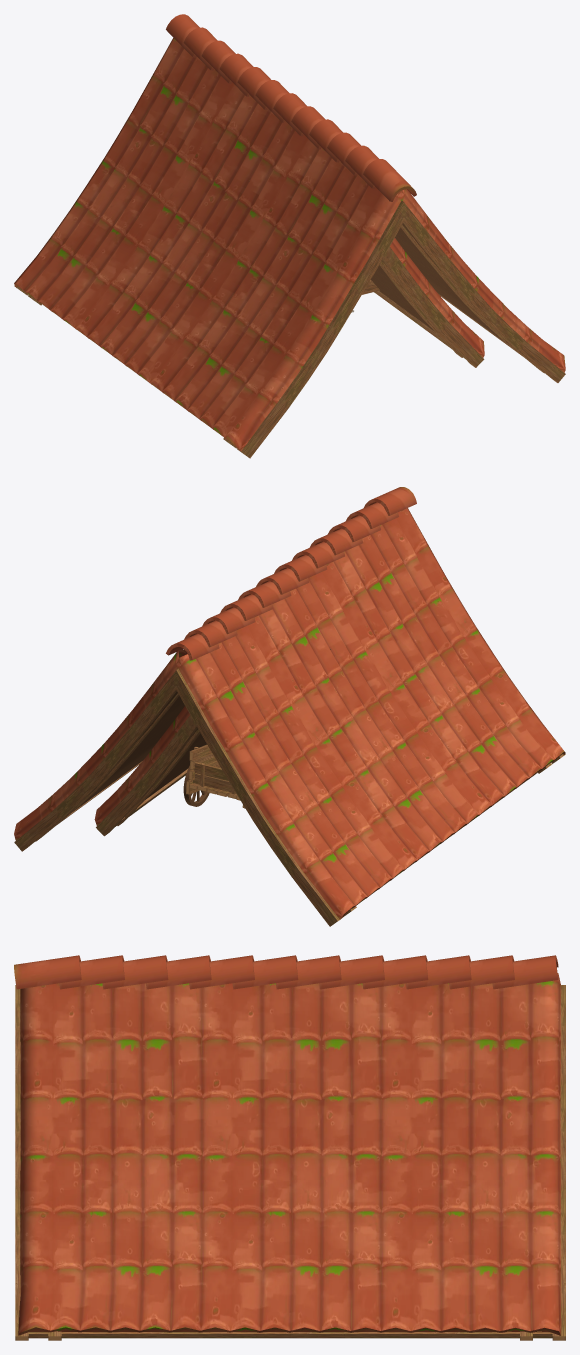
File: village.glb
The picture shows the model from 3 angles, top to bottom: view 1: azimuth 30°, elevation 25°; view 2: azimuth 150°, elevation 25°; view 3: azimuth 270°, elevation 25°; orthographic projection. The views are drawn at different scales.
Visible parts, largest first — view 1: Roof_RoundTiles_6x8, Roof_RoundTiles_4x6; view 2: Roof_RoundTiles_6x8, Roof_RoundTiles_4x6, Prop_Wagon; view 3: Roof_RoundTiles_6x8.
Boxes of the visible parts, left/top/right/bottom form: Roof_RoundTiles_6x8: left=14, top=14, right=565, bottom=458; Roof_RoundTiles_4x6: left=371, top=238, right=484, bottom=367; Roof_RoundTiles_6x8: left=14, top=487, right=565, bottom=926; Roof_RoundTiles_4x6: left=94, top=706, right=206, bottom=836; Prop_Wagon: left=183, top=744, right=245, bottom=808; Roof_RoundTiles_6x8: left=14, top=955, right=565, bottom=1340.
Size of the model in its own units: 8.25 by 5.67 by 9.68.
7 materials, 6 textured.
